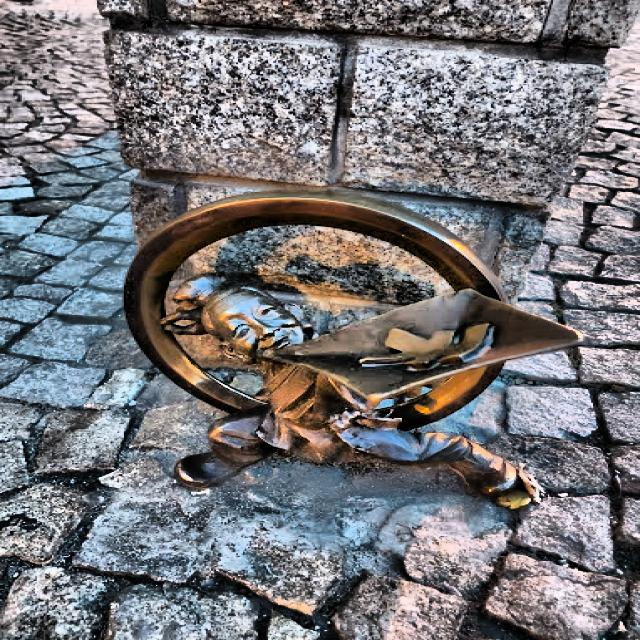TianTian: (123, 190, 582, 501)
